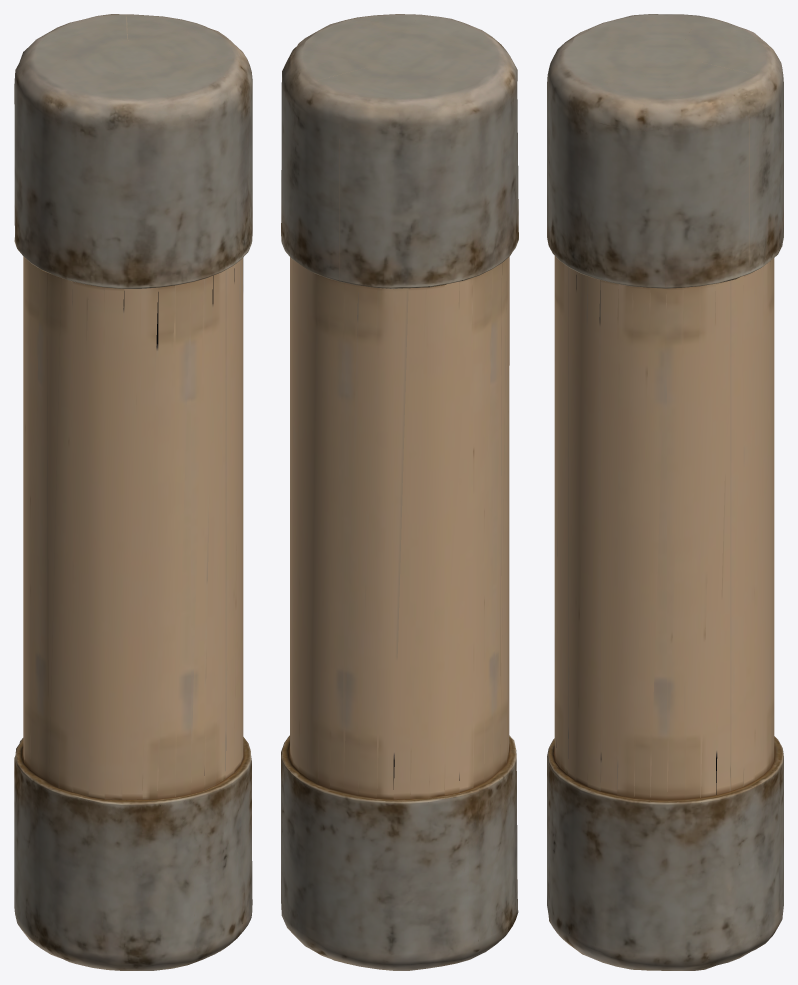
File: fuse.glb
The picture shows the model from 3 angles, left to right: view 1: azimuth 30°, elevation 25°; view 2: azimuth 150°, elevation 25°; view 3: azimuth 270°, elevation 25°; orthographic projection.
Visible parts, largest first — view 1: geometry_0; view 2: geometry_0; view 3: geometry_0.
Part boxes in pixels (x1=…): geometry_0: x1=14, y1=14, x2=252, y2=970; geometry_0: x1=281, y1=14, x2=518, y2=970; geometry_0: x1=547, y1=14, x2=783, y2=970.
Size of the model in its own units: 0.2339 by 0.9517 by 0.2339.
1 material, 1 textured.
